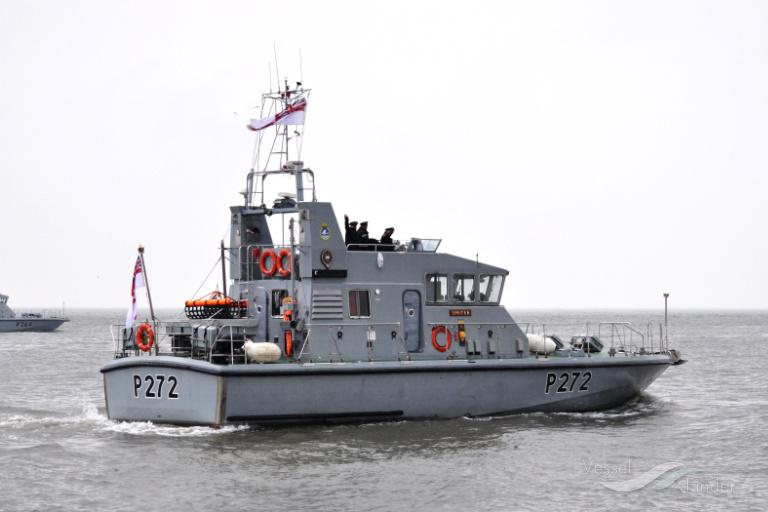OCR: (533, 364, 602, 410), (130, 367, 180, 397)
